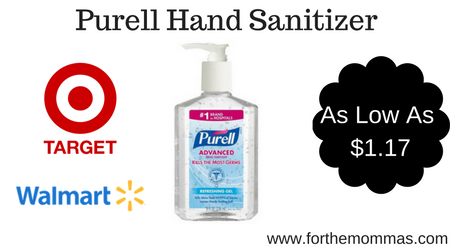Sanitizer: (169, 37, 265, 228)
